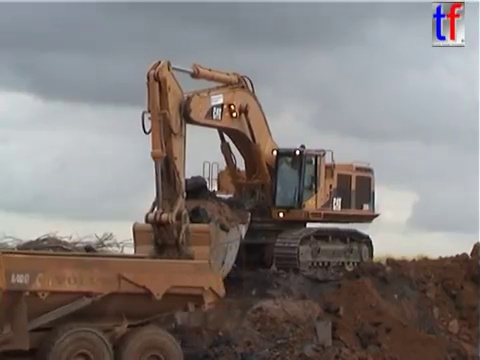excavator: (129, 56, 385, 286)
truck: (1, 241, 229, 360)
